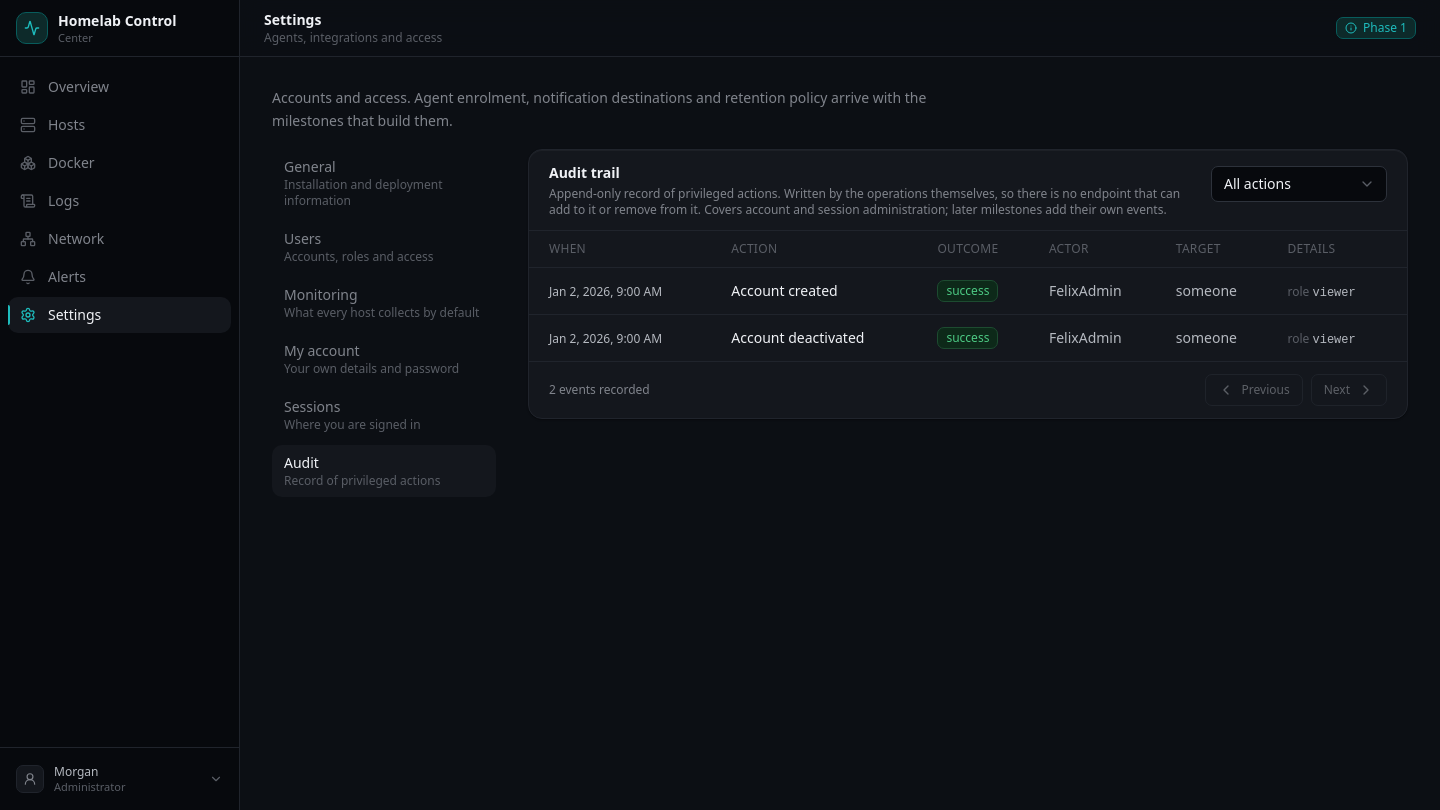
Test case: audit filtering › sends the action as a query parameter
This screenshot has width=1440, height=810.
Expected: the table named "audit events" is shown, x1=529 y1=230 x2=1407 y2=360
Select "Account created" in the dropdown named "Filter by action": (1299, 184) x1=1211 y1=166 x2=1387 y2=202
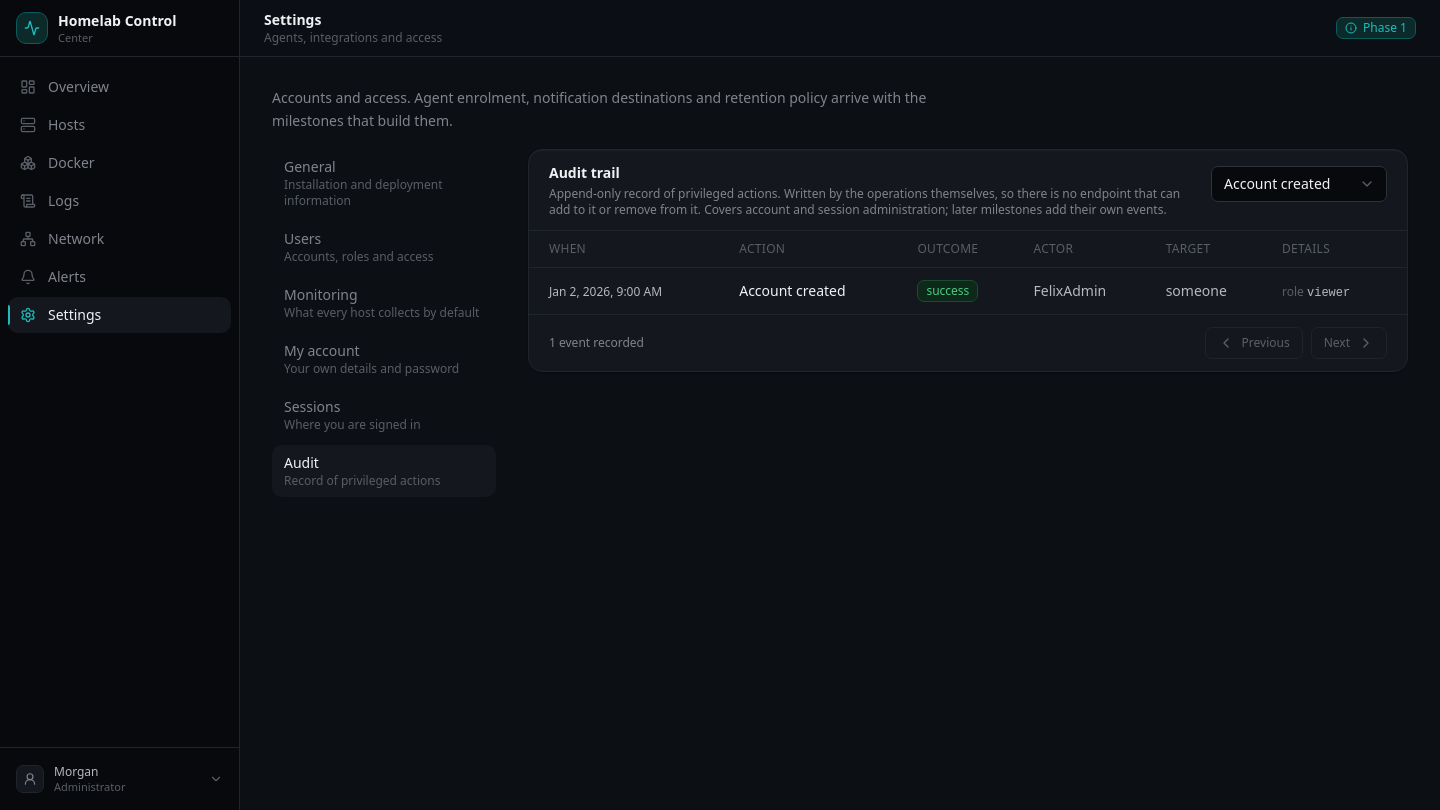
Expected: the text "Account created" is shown, x1=727 y1=268 x2=905 y2=314
Now the text "Account deactivated" is gone
